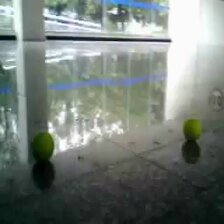tennis: (31, 132, 56, 160), (182, 118, 203, 140)
